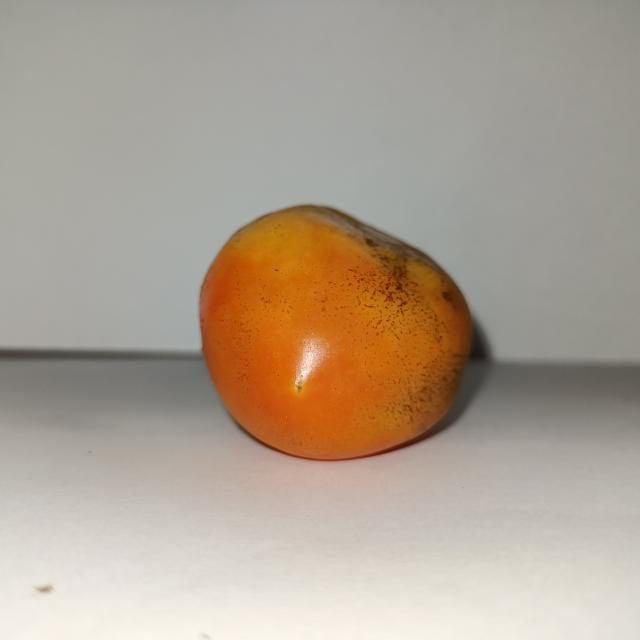Red: (197, 202, 475, 461)
